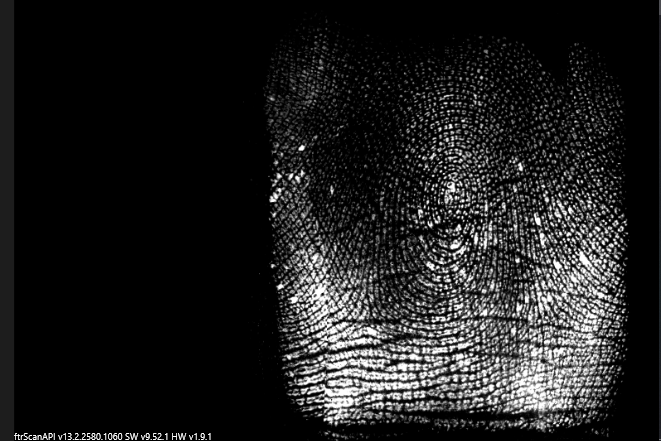nucelo: (433, 171, 465, 219)
verticilo: (344, 310, 382, 341), (528, 307, 557, 330)
